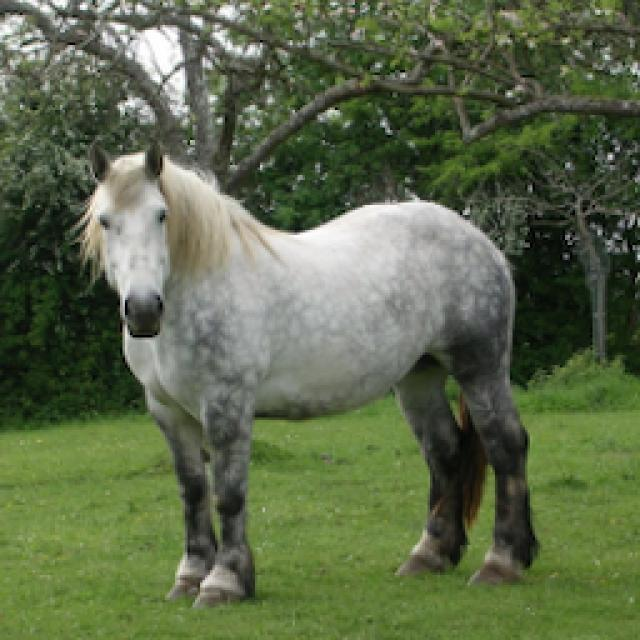Horse: (60, 132, 550, 612)
